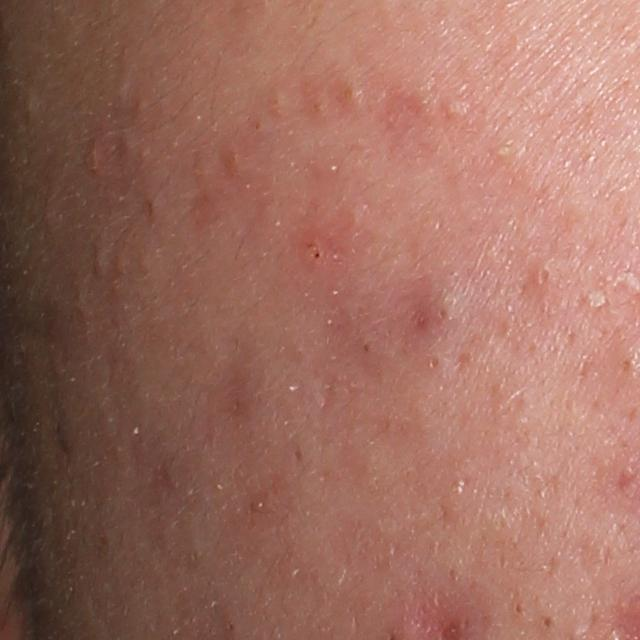comedo: (437, 96, 468, 125), (265, 88, 291, 121), (529, 261, 558, 290), (490, 138, 522, 161), (341, 80, 364, 106), (538, 613, 557, 634), (426, 353, 446, 370), (359, 339, 378, 353)
papule: (287, 224, 340, 272), (422, 283, 465, 333), (83, 133, 106, 175)
